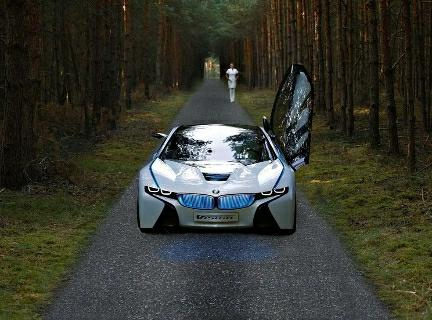car: (137, 118, 304, 240)
